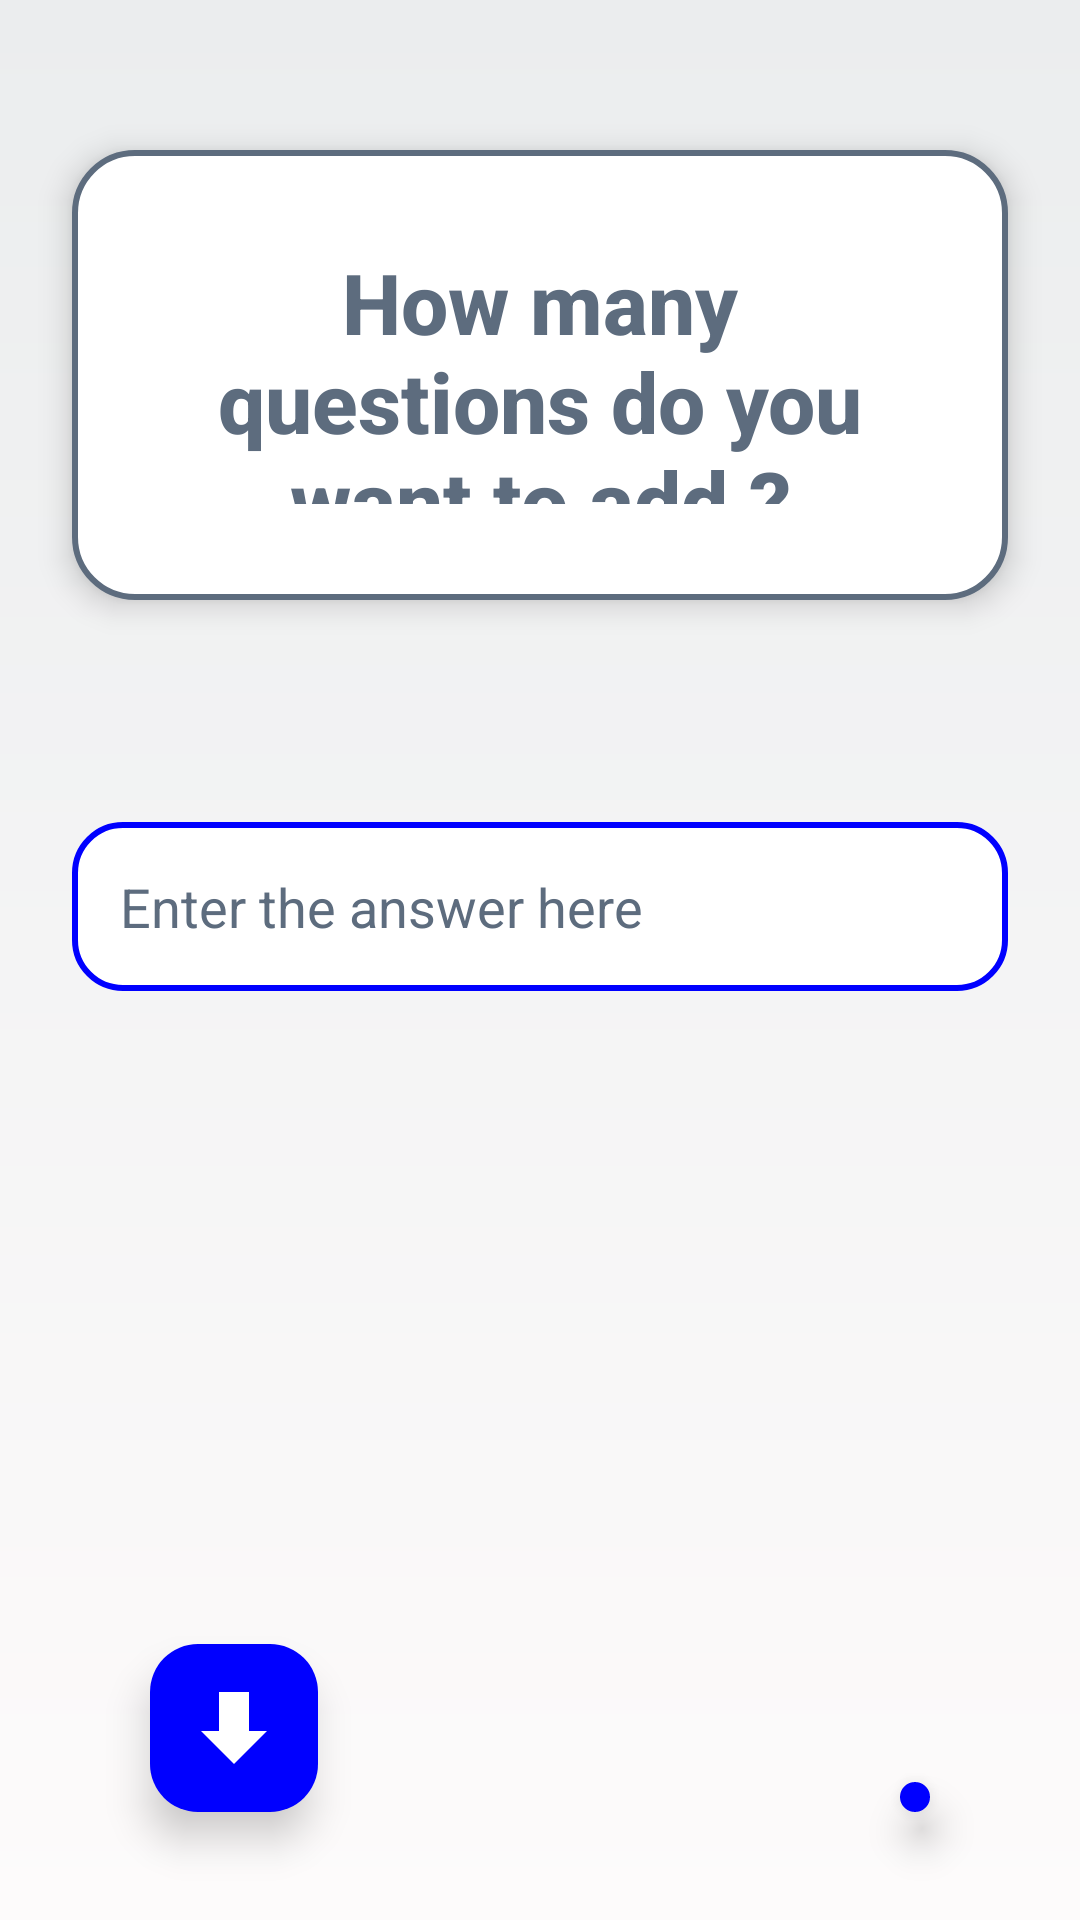

Point at icon controls on the screen. Image size 1080 × 1920, points as point (x, y).
Save: point (234, 1728)
